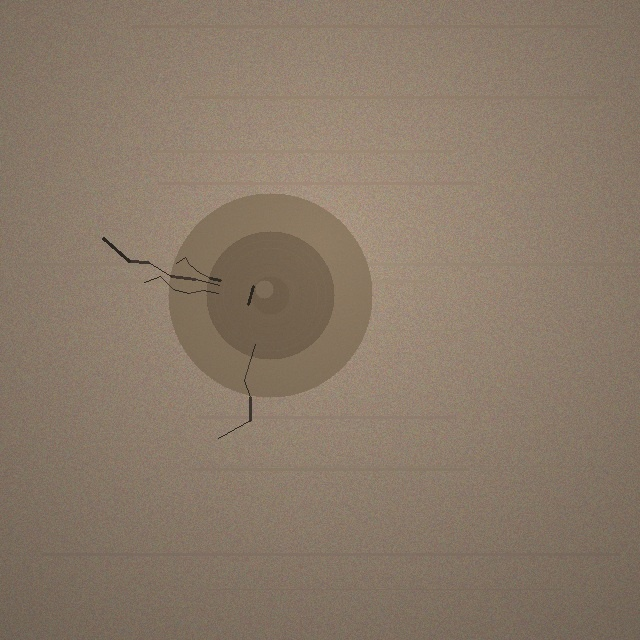crack: (168, 193, 372, 397)
